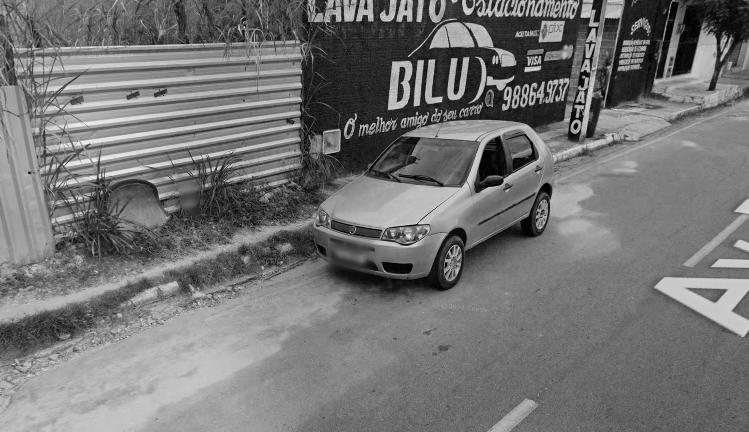car: (309, 111, 561, 298)
